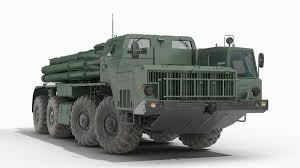MIL_SAM_TEL: (25, 34, 272, 151)
